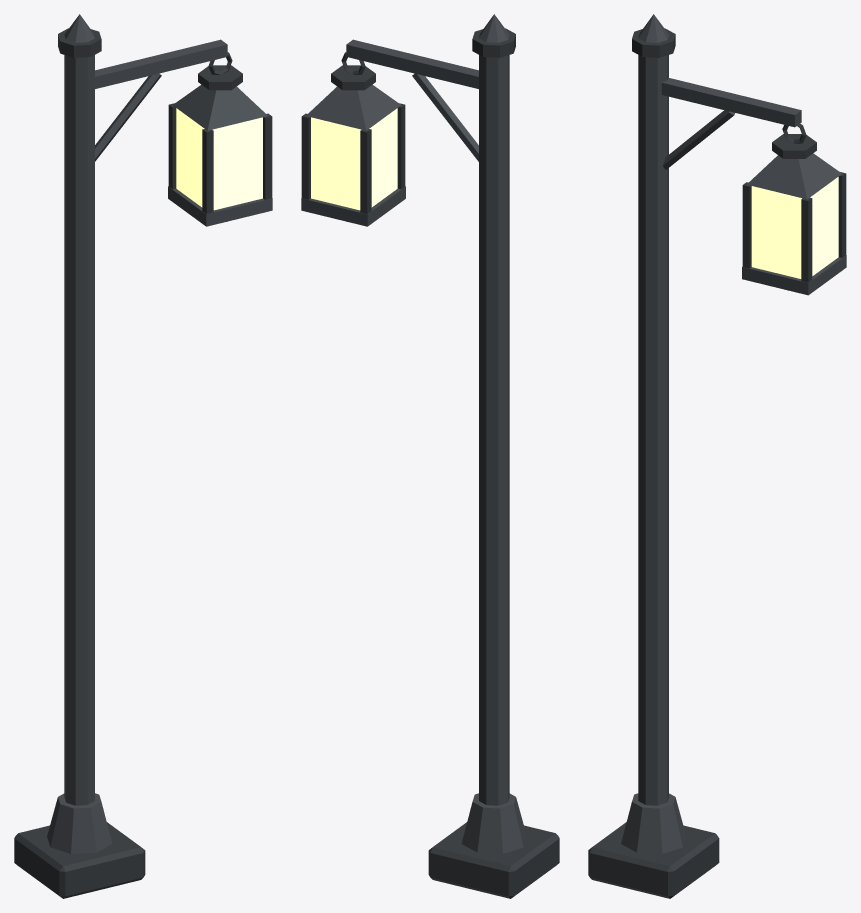
Rendered from lantern-post.glb.
3 renders of one model, left to right at view 1: azimuth 30°, elevation 25°; view 2: azimuth 150°, elevation 25°; view 3: azimuth 330°, elevation 25°, orthographic.
Parts seen in each view (by area): view 1: lantern-post; view 2: lantern-post; view 3: lantern-post.
Boxes of the visible parts, x1,y1,x2,y2 form: lantern-post: [14, 14, 272, 898]; lantern-post: [301, 14, 559, 898]; lantern-post: [588, 14, 846, 898].
Size of the model in its own units: 0.555 by 2.1 by 0.22.
